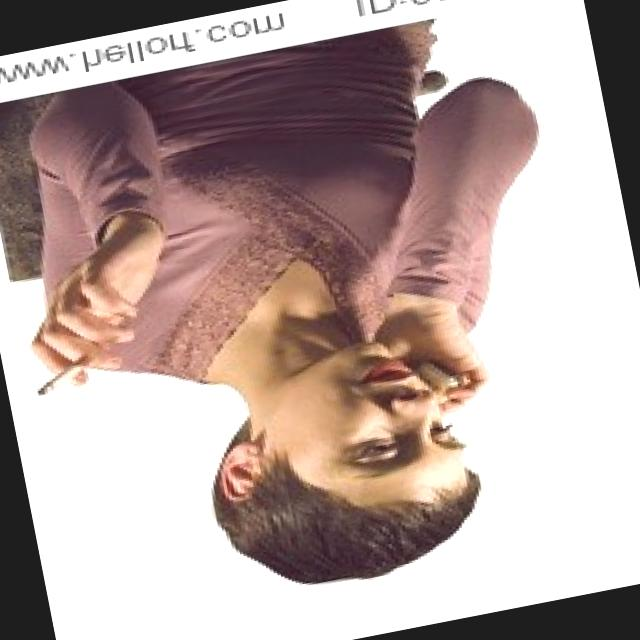cigarette: (21, 350, 102, 401)
